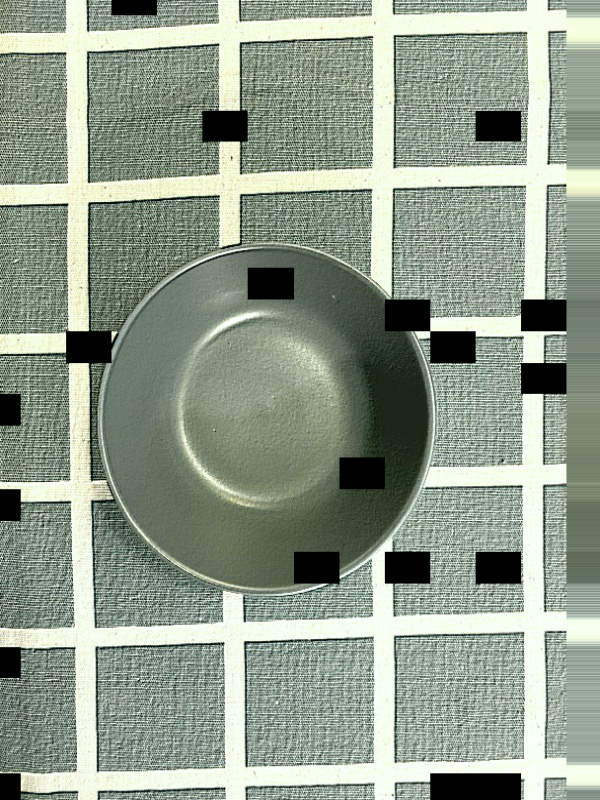bowl_big: (83, 232, 442, 619)
